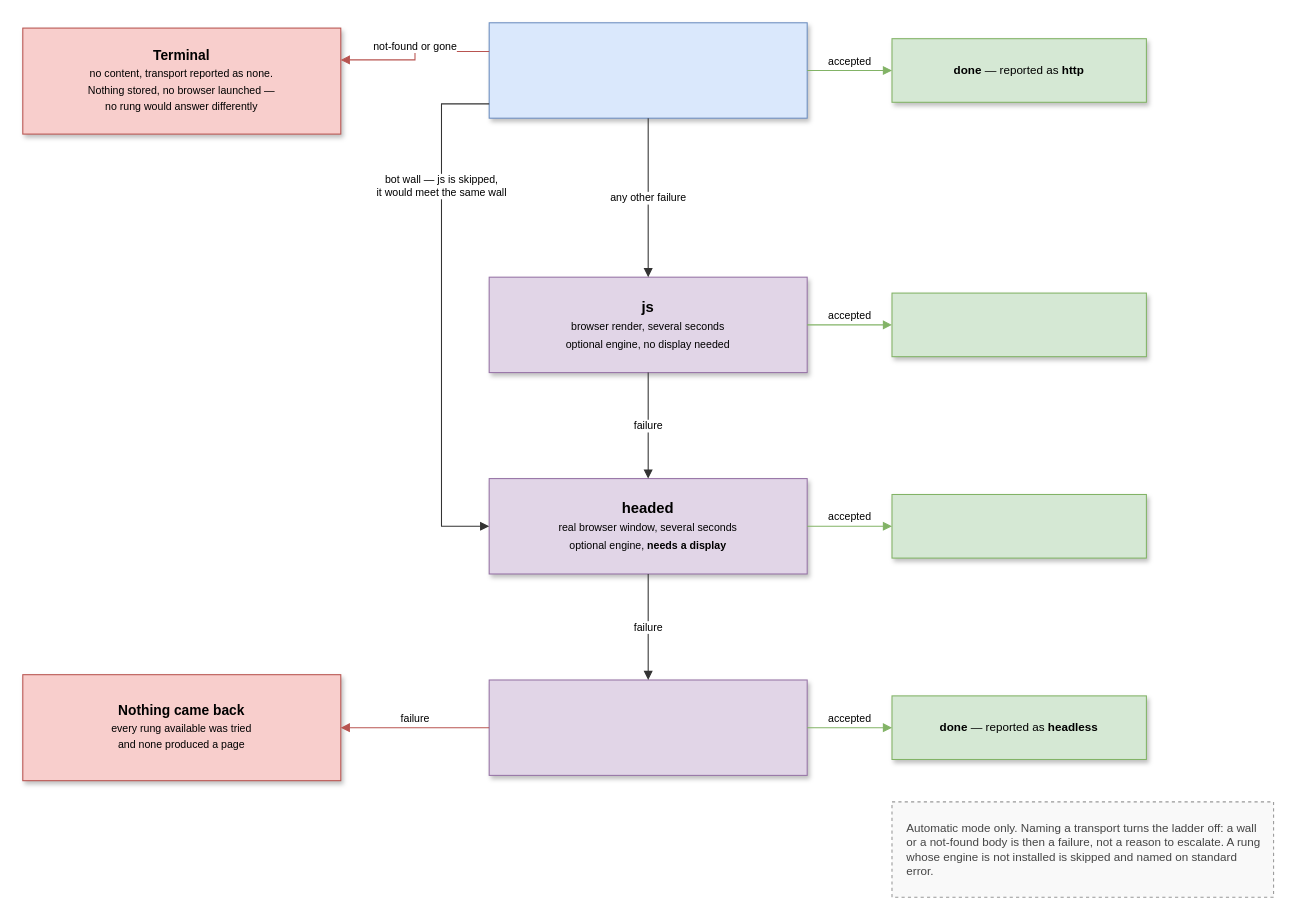
Image size: 1292x916. Some labels were removed from this diagram. The shapes that lost their labels are listed below. From the top down, each one's centre as x and y in pixels, then its label:
At (649,71): "http plain request, about a second always present".
At (1020,326): "done — reported as js".
At (1020,527): "done — reported as headed".
At (649,729): "headless patched driver, tens of seconds optional engine, no display needed".
